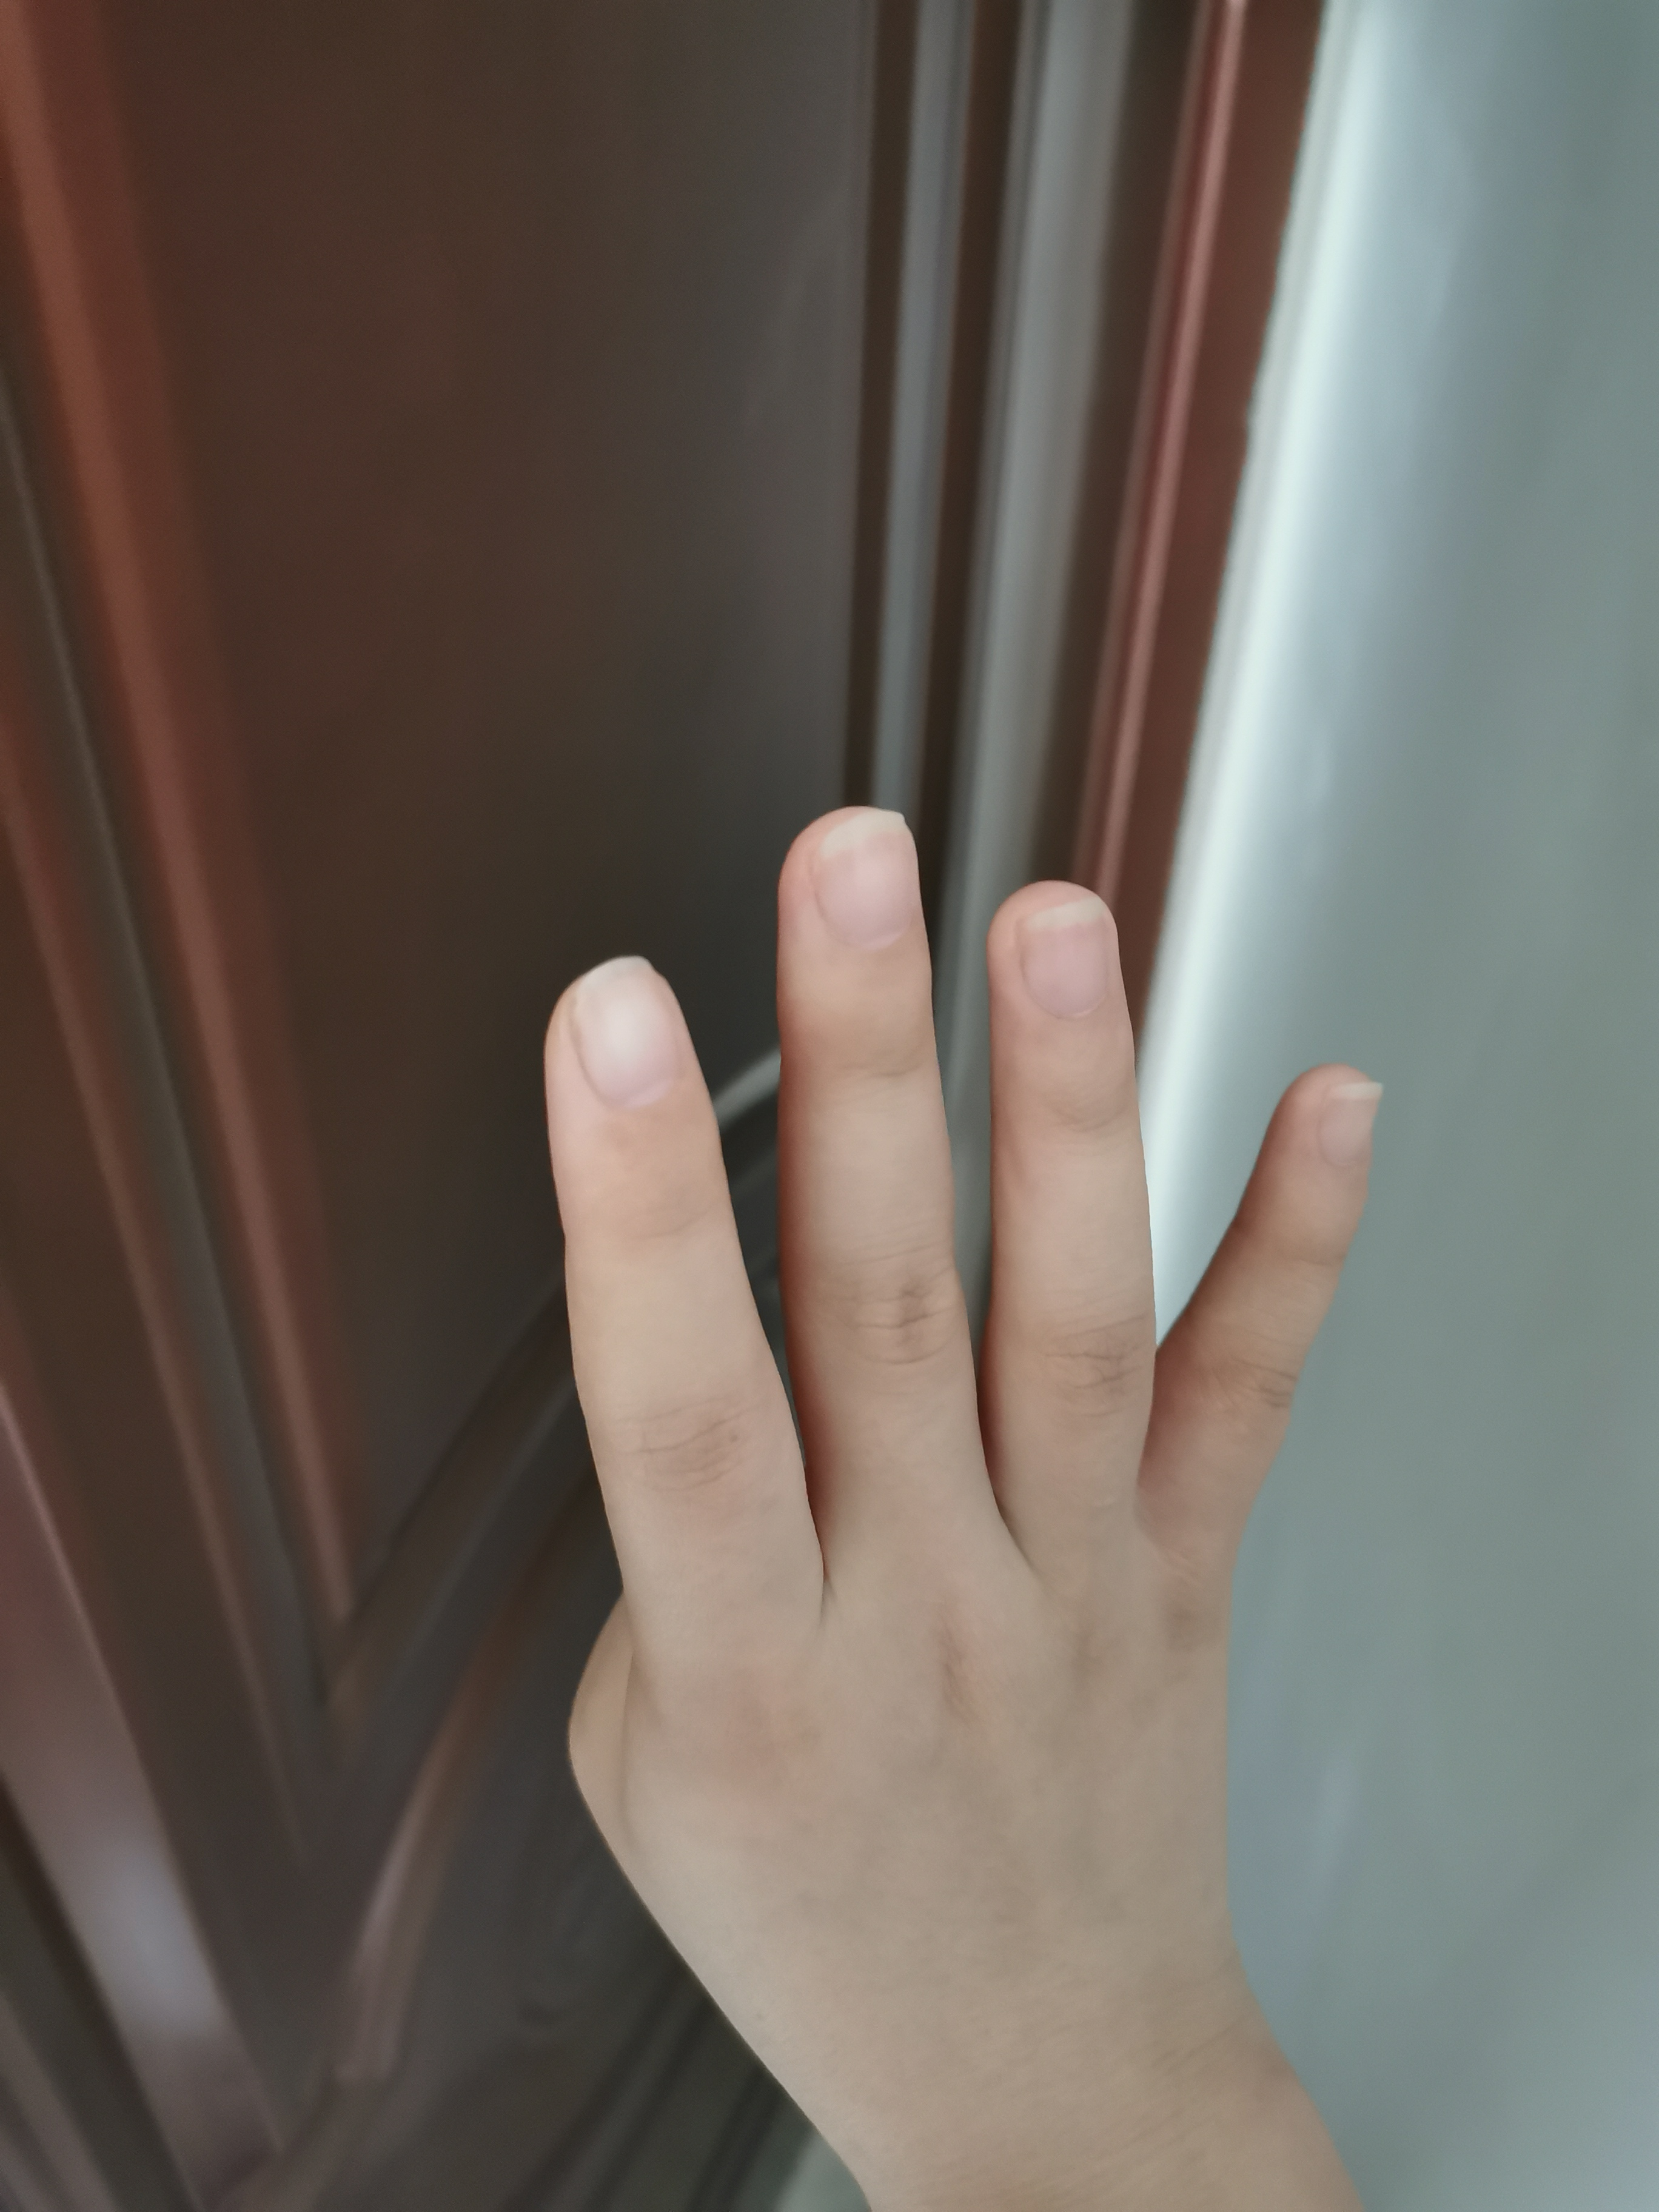right: (530, 810, 1406, 2078)
